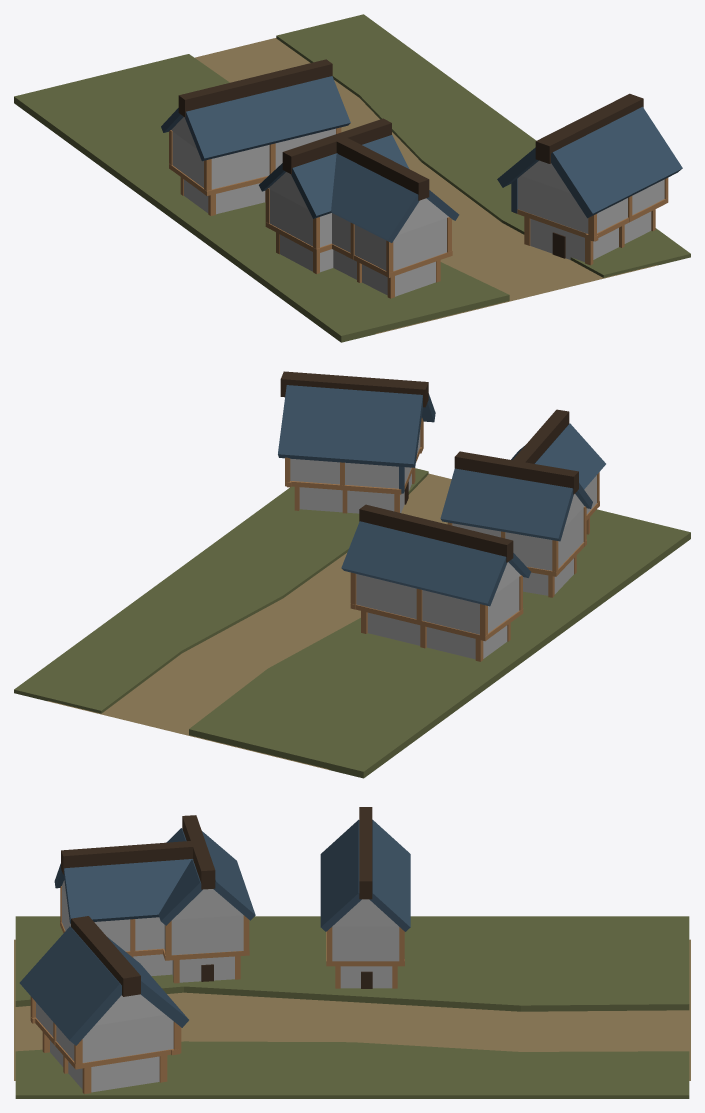
The model's file is cross.fbx.
The picture shows the model from 3 angles, top to bottom: view 1: azimuth 30°, elevation 25°; view 2: azimuth 150°, elevation 25°; view 3: azimuth 270°, elevation 25°; orthographic projection. The views are drawn at different scales.
Visible parts, largest first — view 1: 平面, 平面.001, 立方体.061, 立方体.018, 立方体.042, 立方体.063, 立方体, 立方体.082, 立方体.041, 立方体.020, 立方体.023, 立方体.062 (+3 smaller); view 2: 平面, 平面.001, 立方体.060, 立方体.019, 立方体, 立方体.022, 立方体.042, 立方体.041, 立方体.020, 立方体.021, 立方体.062, 立方体.082 (+3 smaller); view 3: 平面, 平面.001, 立方体.042, 立方体.061, 立方体.081, 立方体.041, 立方体, 立方体.018, 立方体.019, 立方体.063, 立方体.083, 立方体.062 (+6 smaller).
Part boxes in pixels (box(x1,y1,x2,y2)): 平面: box(14, 14, 690, 342); 平面.001: box(195, 38, 657, 333); 立方体.061: box(551, 106, 682, 218); 立方体.018: box(185, 76, 350, 161); 立方体.042: box(517, 160, 664, 261); 立方体.063: box(332, 198, 448, 296); 立方体: box(171, 117, 335, 214); 立方体.082: box(331, 153, 419, 242); 立方体.041: box(269, 172, 333, 272); 立方体.020: box(178, 59, 332, 117); 立方体.023: box(291, 135, 409, 218); 立方体.062: box(535, 93, 643, 163); 平面: box(14, 468, 690, 778); 平面.001: box(48, 473, 451, 769); 立方体.060: box(278, 385, 422, 467); 立方体.019: box(341, 521, 507, 606); 立方体: box(356, 562, 520, 659); 立方体.022: box(440, 468, 573, 541); 立方体.042: box(290, 430, 420, 513); 立方体.041: box(452, 494, 584, 595); 立方体.020: box(359, 504, 513, 562); 立方体.021: box(454, 451, 578, 494); 立方体.062: box(280, 371, 428, 407); 立方体.082: box(534, 423, 605, 489); 平面: box(15, 916, 689, 1098); 平面.001: box(14, 939, 690, 1080); 立方体.042: box(36, 994, 173, 1092); 立方体.061: box(19, 926, 121, 1045); 立方体.081: box(63, 859, 193, 923); 立方体.041: box(164, 889, 243, 982); 立方体: box(332, 899, 399, 988); 立方体.018: box(320, 819, 361, 931); 立方体.019: box(369, 819, 410, 931); 立方体.063: box(62, 880, 172, 976); 立方体.083: box(61, 841, 192, 874); 立方体.062: box(71, 916, 140, 996).
Size of the model in its own units: 2106 by 657 by 3260.
